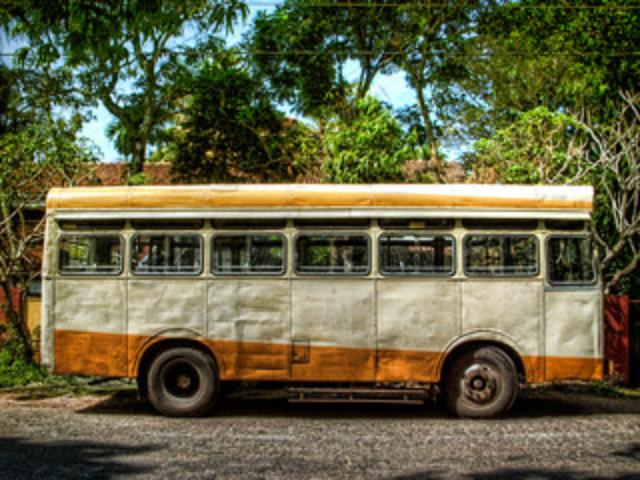bus: (38, 182, 606, 420)
